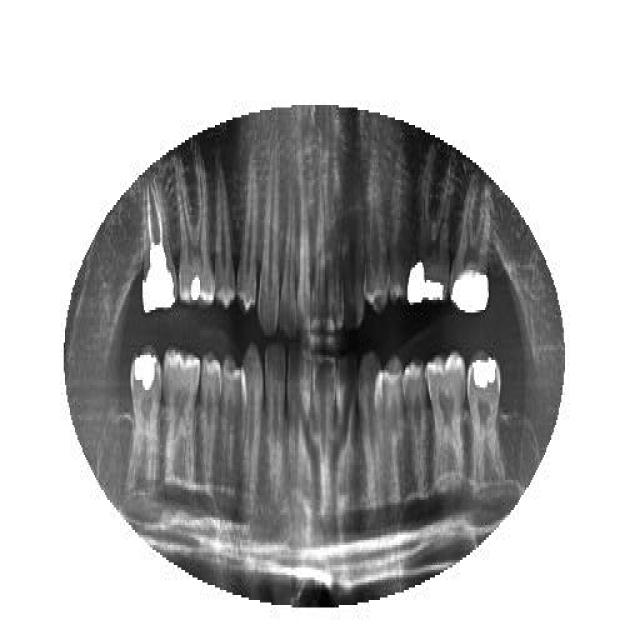Fillings: (408, 142, 457, 312), (174, 148, 215, 308), (450, 173, 491, 315), (466, 350, 504, 490), (128, 348, 162, 492)
Implant: (142, 185, 178, 315)
